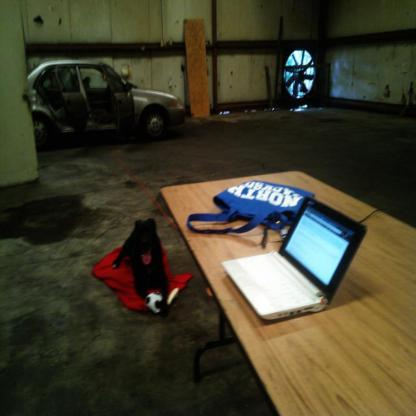board: (236, 187, 363, 327)
